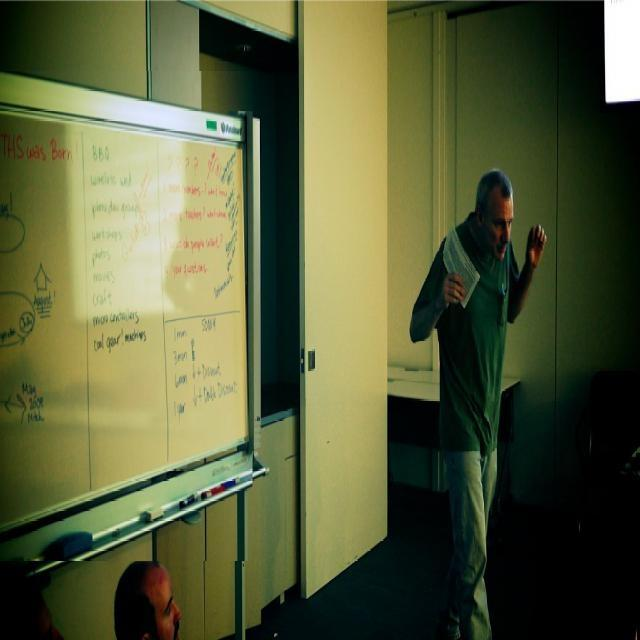Whiteboard: (0, 103, 247, 532)
